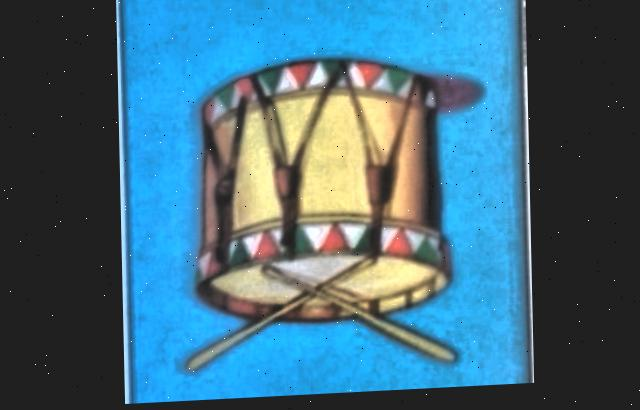El Tambor: (116, 0, 528, 405)
